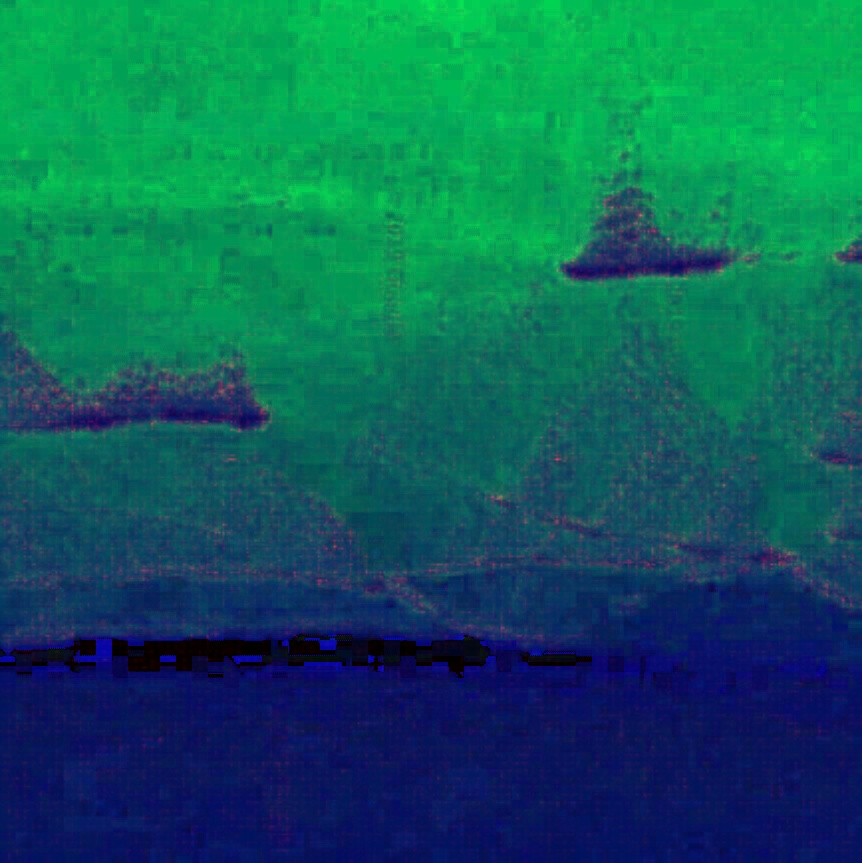rip_current: (226, 292, 513, 601)
